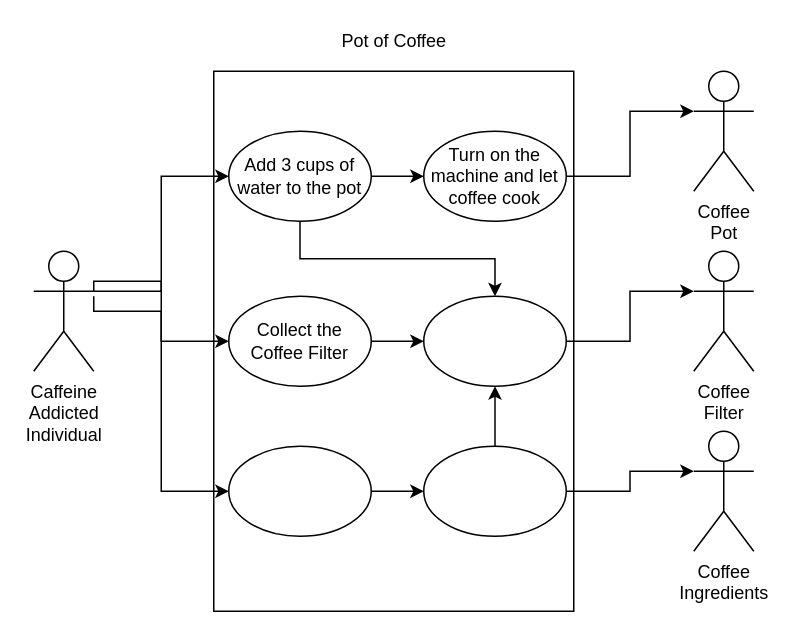
The diagram is 794 pixels wide and 638 high, and some of its shapes have lost their labels. Here are the shapes that lost their labels. From the top down, the box of each, then its label:
(422, 295, 566, 386): Add the filter to the Coffee Pot
(227, 445, 371, 536): Collect the Coffee Ingredients
(422, 445, 566, 536): Add the ingredients to the filter
